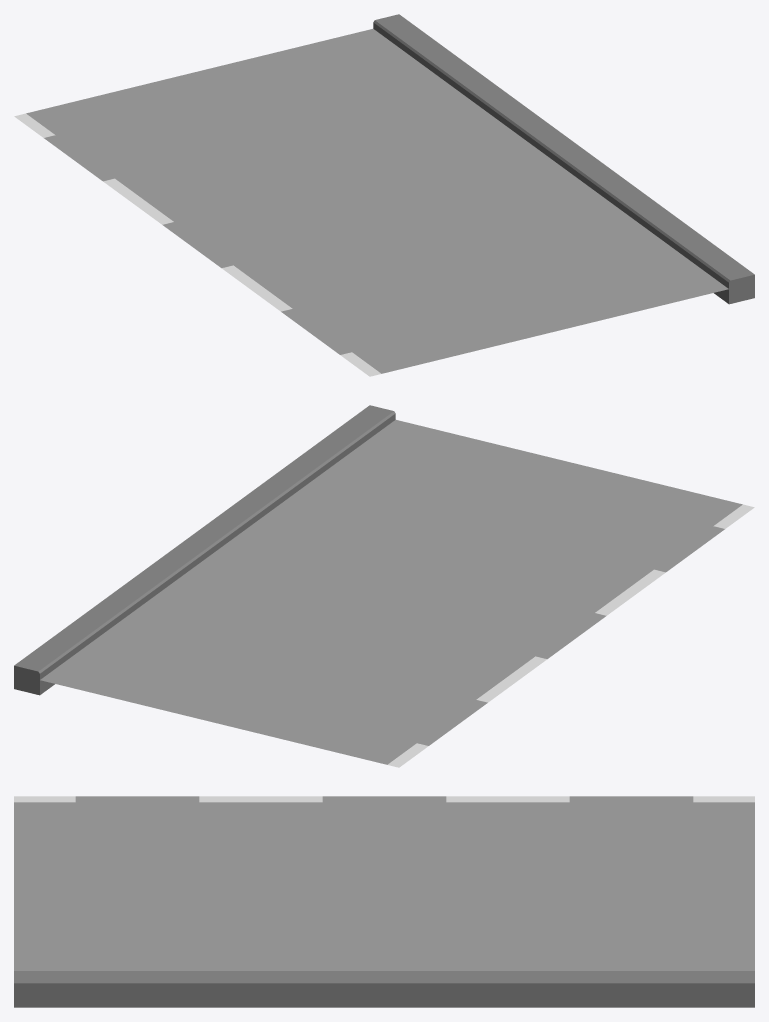
File: Mesh_Landscape_Road_01.FBX
3 renders of one model, top to bottom at view 1: azimuth 30°, elevation 25°; view 2: azimuth 150°, elevation 25°; view 3: azimuth 270°, elevation 25°, orthographic. The views are drawn at different scales.
Visible parts, largest first — view 1: Mesh_Landscape_Road_01; view 2: Mesh_Landscape_Road_01; view 3: Mesh_Landscape_Road_01.
Boxes of the visible parts, <box> form: Mesh_Landscape_Road_01: <box>14,14,754,376</box>; Mesh_Landscape_Road_01: <box>14,405,754,767</box>; Mesh_Landscape_Road_01: <box>14,796,754,1007</box>.
Size of the model in its own units: 250 by 400 by 14.55.
